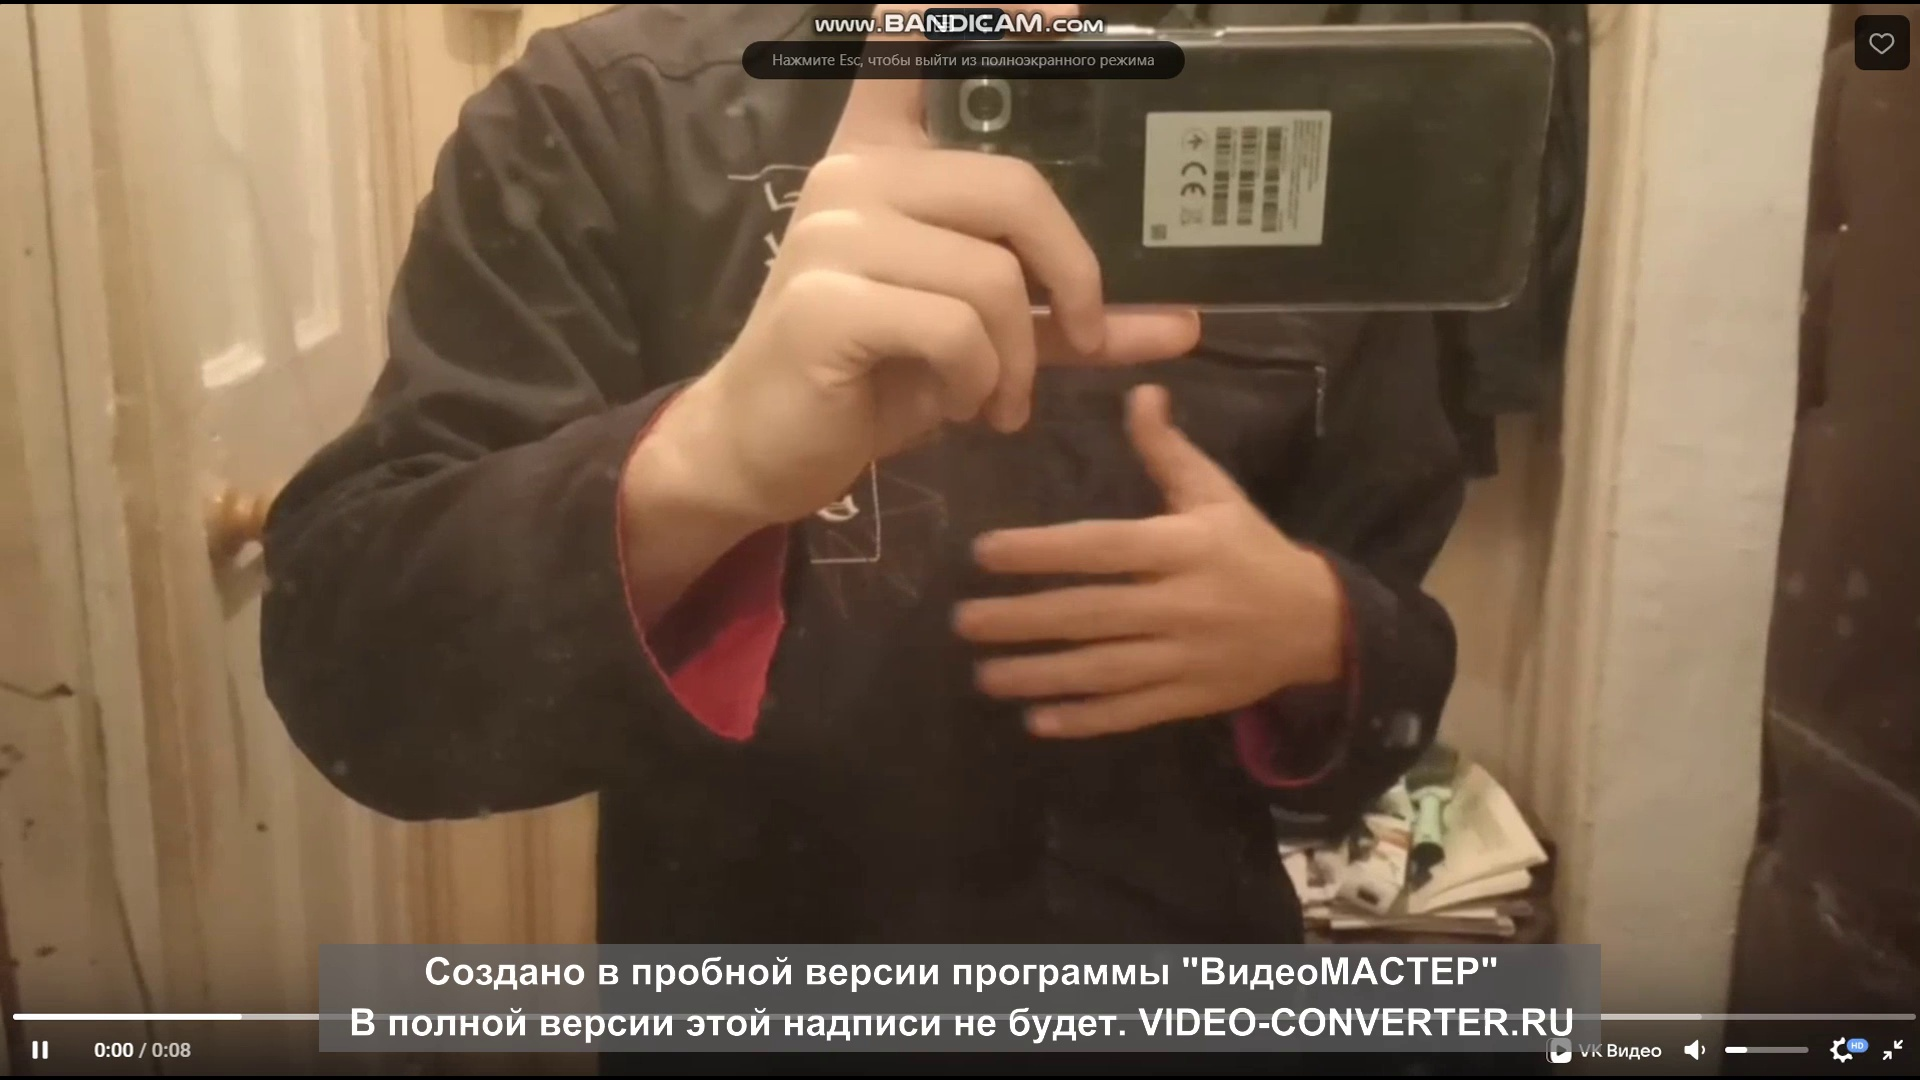Кисть: (955, 378, 1331, 742)
